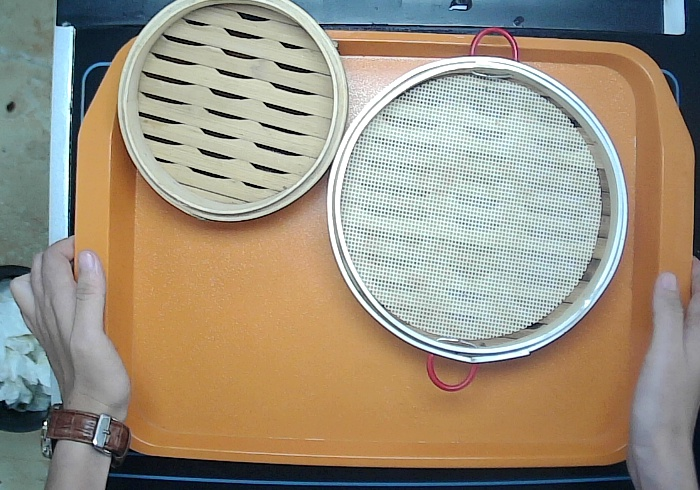ZNLD-Da_Zheng_Long: (324, 23, 634, 398)
ZNLD-Xiao_Zheng_Long: (113, 1, 352, 229)
